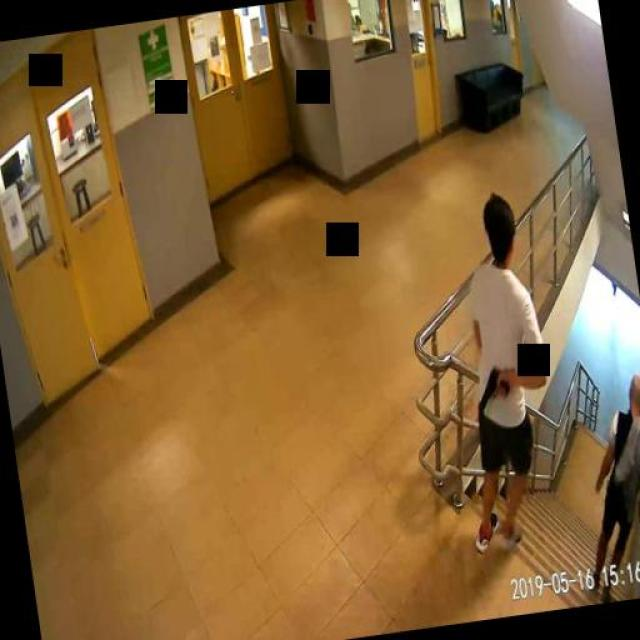gun: (473, 364, 512, 411)
